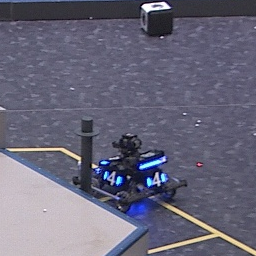Blue: (102, 168, 123, 189), (146, 168, 166, 187)
Robot: (71, 134, 188, 212)
